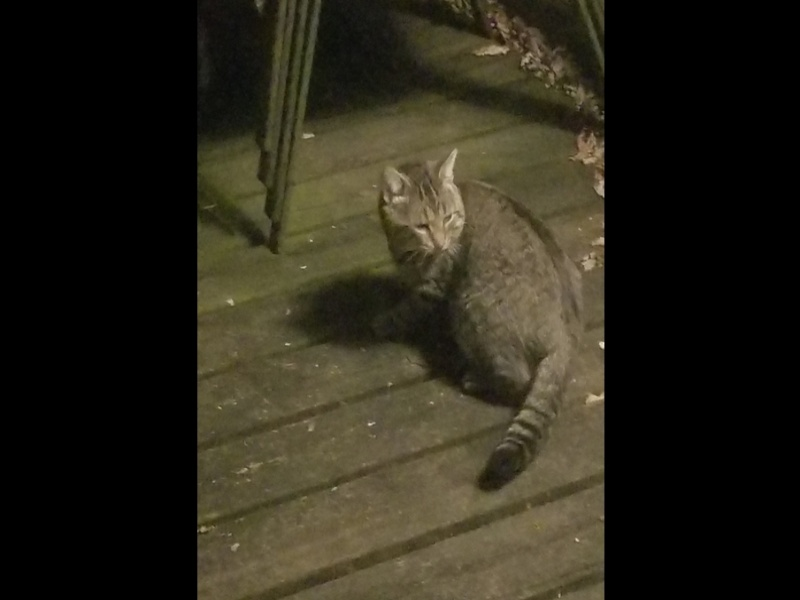cat: (368, 158, 583, 492)
